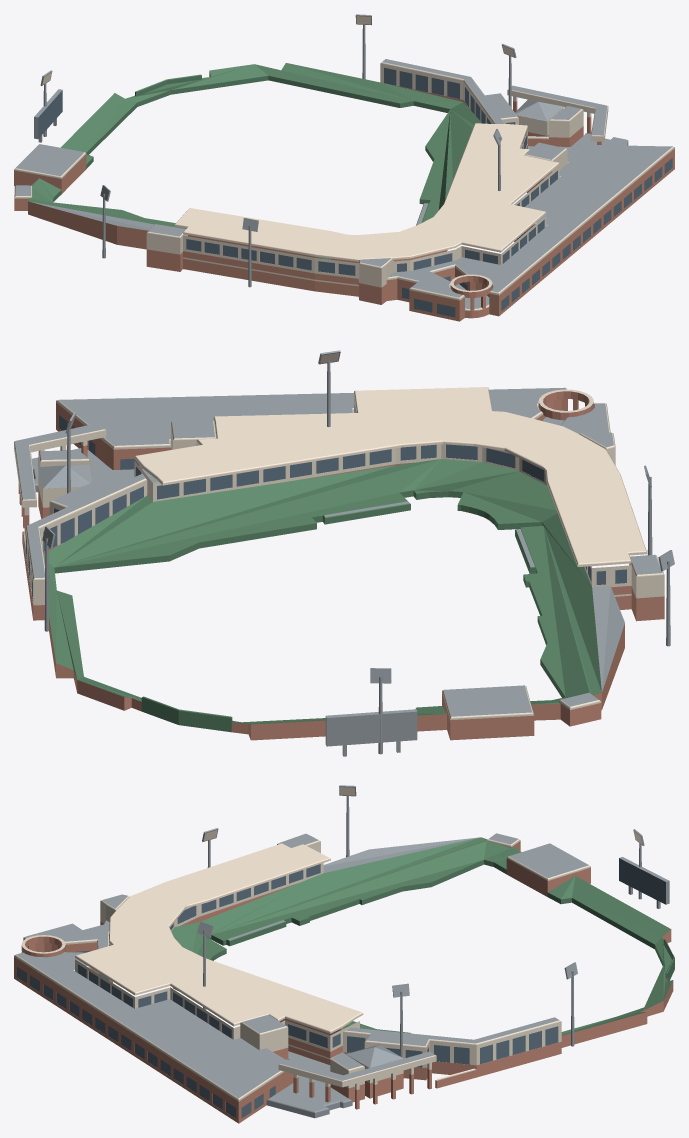
The model's file is truist-field.glb.
3 views of the same model, one above another, from view 1: azimuth 30°, elevation 25°; view 2: azimuth 150°, elevation 25°; view 3: azimuth 270°, elevation 25° (orthographic). The views are drawn at different scales.
Visible parts, largest first — view 1: Truist Field; view 2: Truist Field; view 3: Truist Field.
Boxes of the visible parts, x1,y1,x2,y2 form: Truist Field: [14, 14, 674, 321]; Truist Field: [14, 350, 674, 756]; Truist Field: [14, 785, 674, 1123].
Bounding box in the file's own units: 195 × 33.03 × 197.
